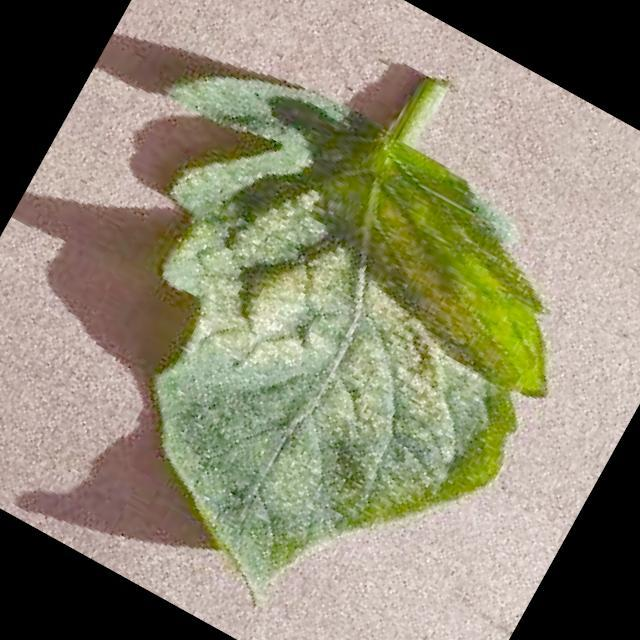Tomato spider mites leaf: (0, 25, 622, 640)
